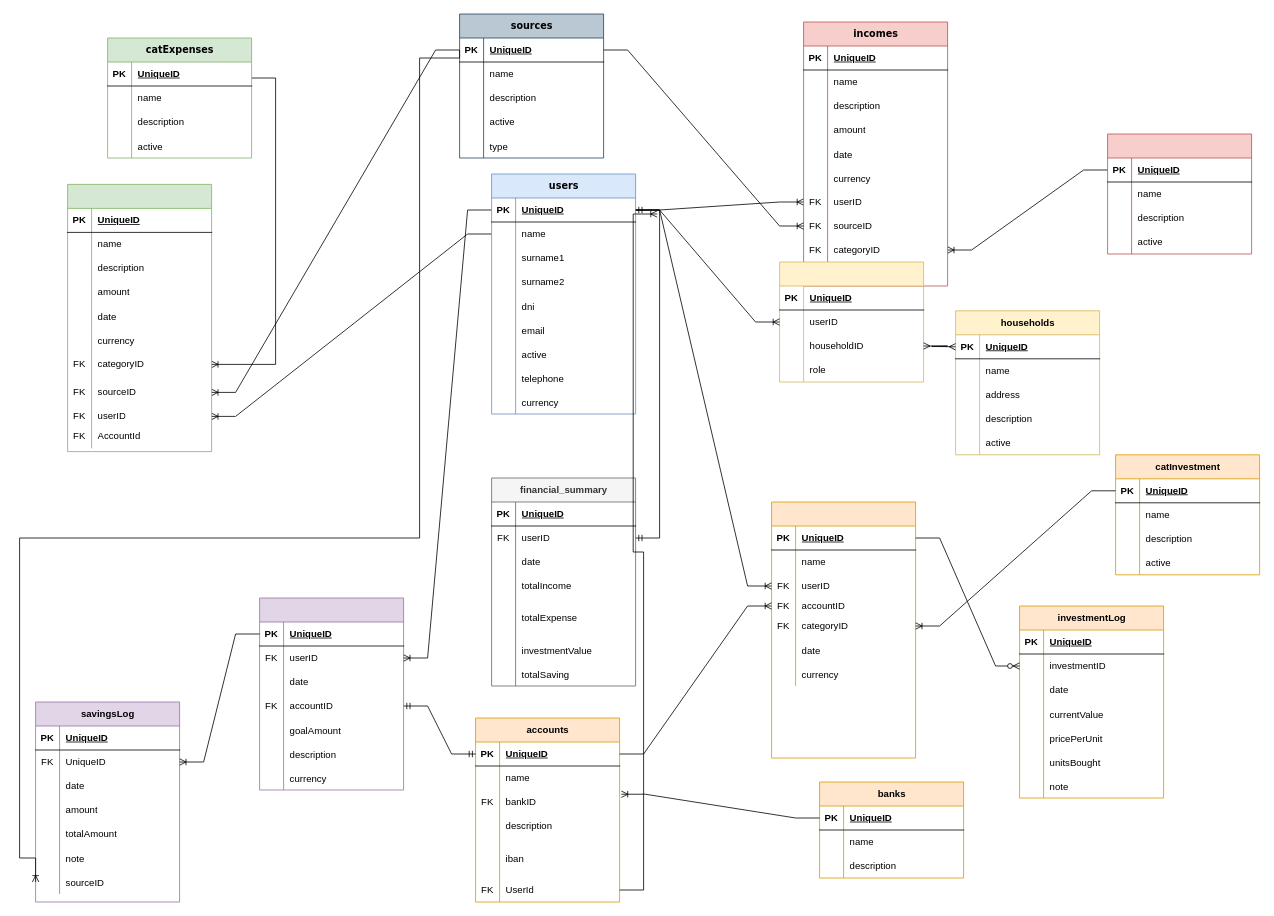
Image size: 1274x916. Some labels were removed from this diagram. The box of each missing label's shape, as (x1, y1, x2, y2) in pixels:
catIncomes: (1107, 133, 1252, 254)
expenses: (67, 184, 212, 452)
household_members: (779, 261, 924, 382)
investmets: (771, 501, 916, 758)
savings: (259, 597, 404, 790)
